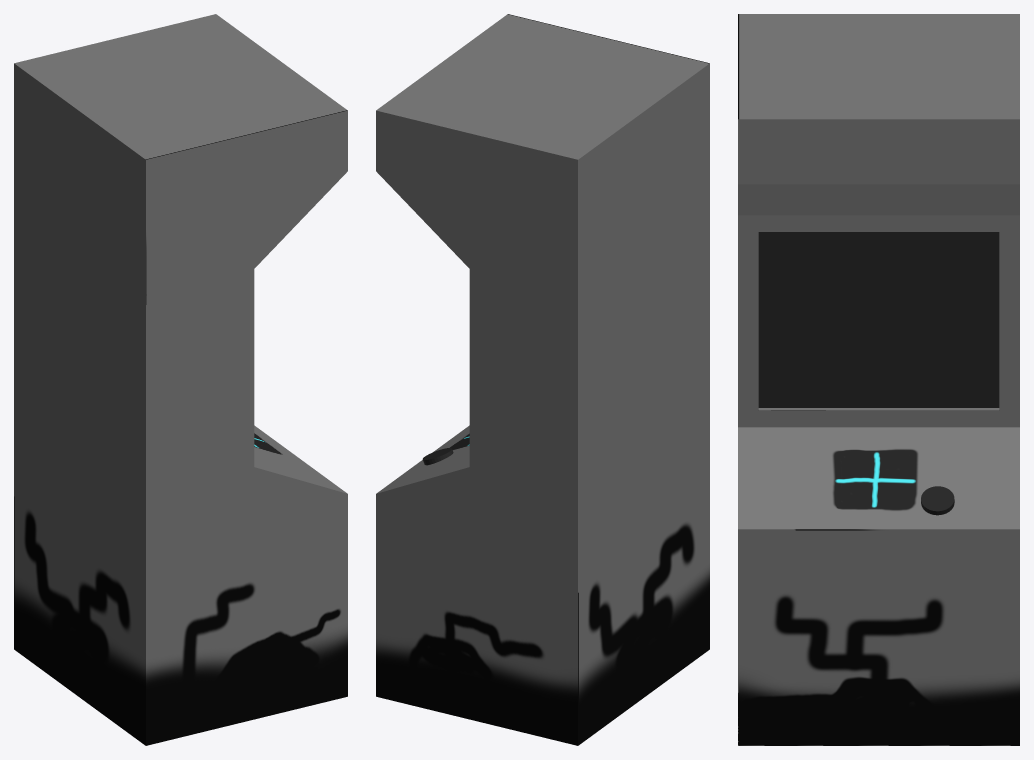
Rendered from arcade_3.glb.
The picture shows the model from 3 angles, left to right: view 1: azimuth 30°, elevation 25°; view 2: azimuth 150°, elevation 25°; view 3: azimuth 270°, elevation 25°; orthographic projection. The views are drawn at different scales.
Visible parts, largest first — view 1: Machine.002; view 2: Machine.002; view 3: Machine.002, Screen.002.
Boxes of the visible parts, x1,y1,x2,y2 form: Machine.002: (14, 14, 347, 745); Machine.002: (376, 14, 709, 745); Machine.002: (738, 14, 1019, 745); Screen.002: (758, 232, 999, 515).
Bounding box in the file's own units: 0.6493 × 1.8 × 0.7339.
2 materials, 1 textured.
